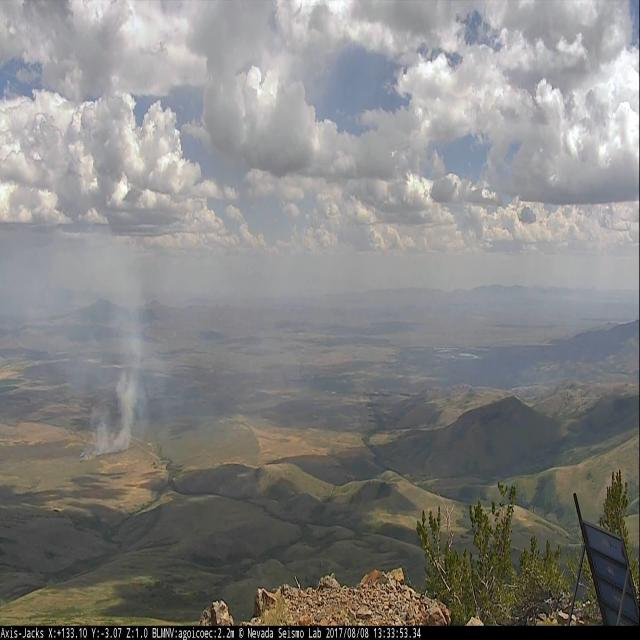smoke: (78, 242, 141, 463)
